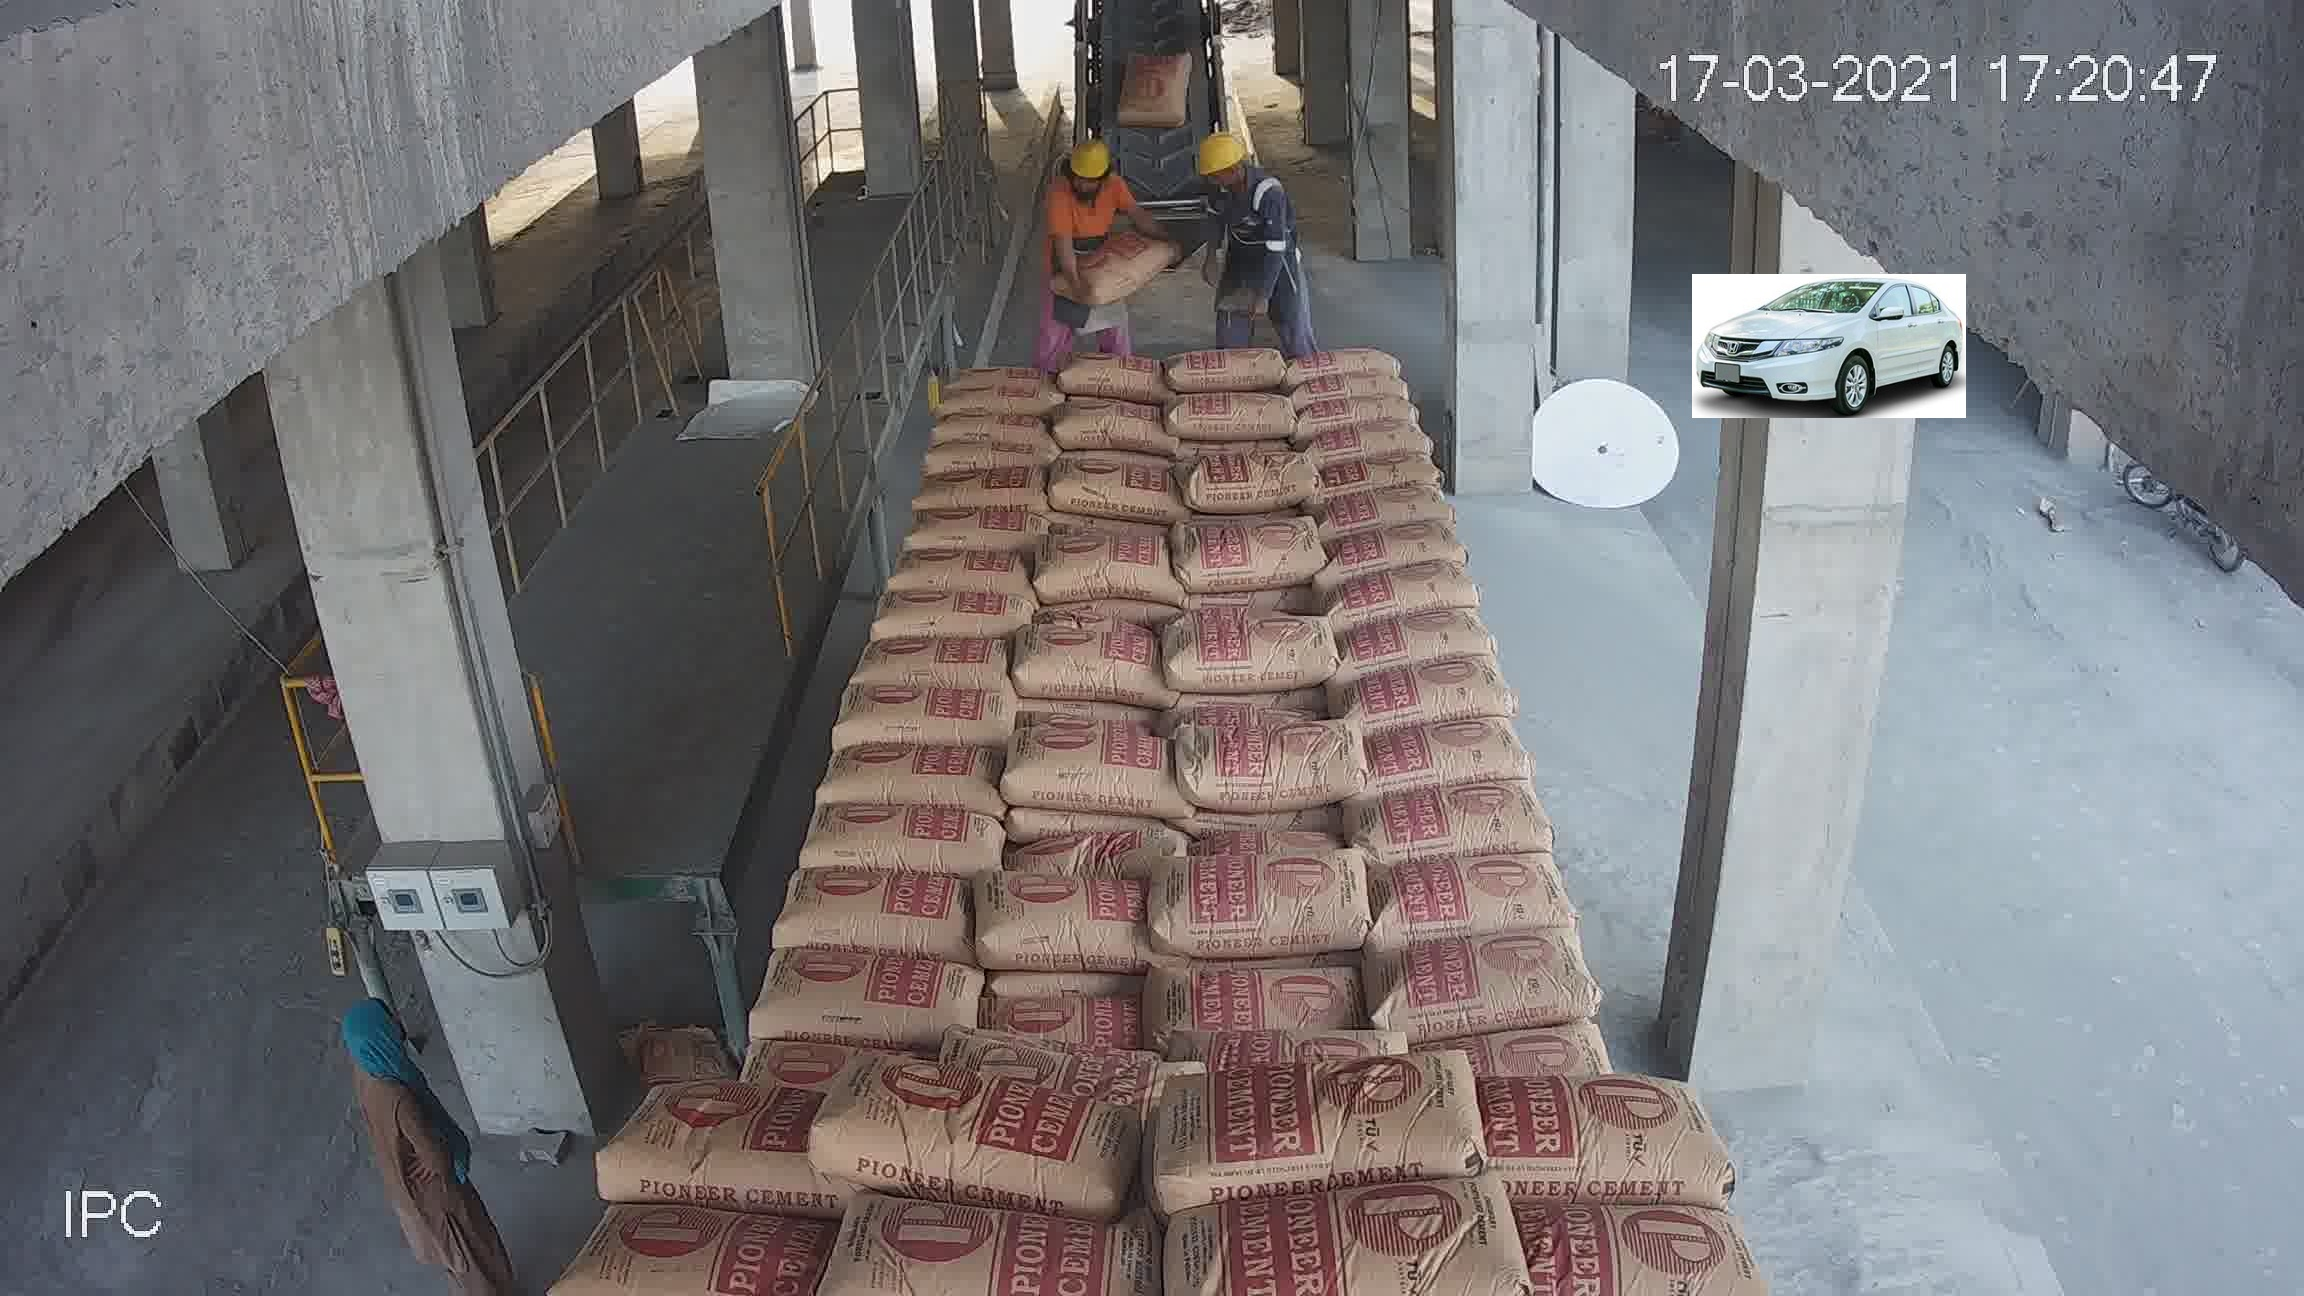bag: (1043, 548, 1233, 718), (1081, 153, 1218, 286)
bag_h: (1158, 1036, 1497, 1204), (1139, 1161, 1541, 1294), (1138, 921, 1475, 1074), (807, 1074, 1135, 1201), (856, 946, 1150, 1081), (635, 953, 907, 1084), (1155, 812, 1416, 948), (597, 1074, 832, 1196), (790, 1198, 1184, 1271), (677, 851, 916, 965), (1427, 956, 1693, 1055), (559, 1198, 828, 1296), (1495, 1076, 1720, 1188), (1518, 1199, 1768, 1294), (889, 850, 1165, 930), (1400, 864, 1652, 942), (1397, 791, 1581, 873), (734, 817, 951, 869), (804, 744, 957, 799), (1173, 726, 1282, 790), (829, 687, 937, 742), (1182, 673, 1283, 731), (847, 627, 934, 695), (1203, 612, 1296, 673), (824, 782, 957, 820)
belt: (991, 13, 1298, 513)
